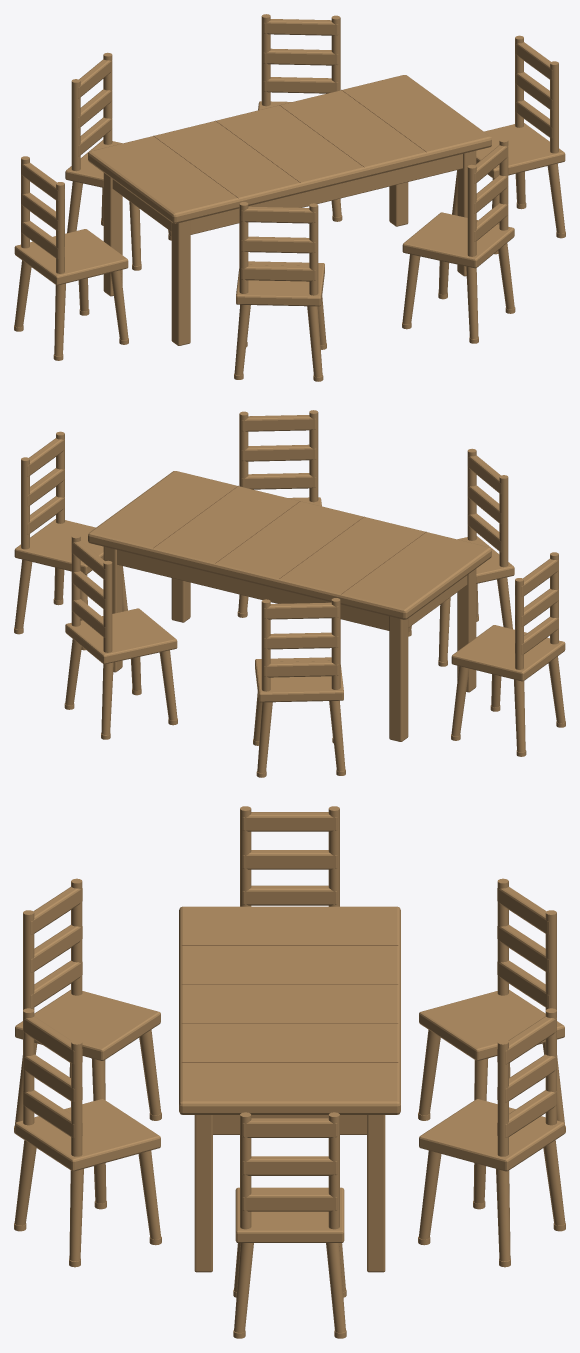
File: kitchen_set_farmhouse.glb
The picture shows the model from 3 angles, top to bottom: view 1: azimuth 30°, elevation 25°; view 2: azimuth 150°, elevation 25°; view 3: azimuth 270°, elevation 25°; orthographic projection. The views are drawn at different scales.
Visible parts, largest first — view 1: Farmhouse kitchen table tabletop, Farmhouse kitchen table long apron, Farmhouse ladder chair 2 seat, Farmhouse ladder chair 5 seat, Farmhouse ladder chair 6 seat, Farmhouse kitchen table leg, Farmhouse ladder chair 1 seat, Farmhouse kitchen table leg.001, Farmhouse ladder chair 4 ladder-back slat.002, Farmhouse ladder chair 4 ladder-back slat.001, Farmhouse ladder chair 1 ladder-back slat.001, Farmhouse ladder chair 1 ladder-back slat.002 (+41 smaller); view 2: Farmhouse kitchen table tabletop, Farmhouse kitchen table long apron.001, Farmhouse ladder chair 4 seat, Farmhouse ladder chair 5 seat, Farmhouse ladder chair 6 seat, Farmhouse kitchen table leg.001, Farmhouse ladder chair 3 seat, Farmhouse kitchen table leg, Farmhouse ladder chair 2 ladder-back slat.002, Farmhouse ladder chair 2 ladder-back slat.001, Farmhouse ladder chair 3 ladder-back slat.001, Farmhouse ladder chair 3 ladder-back slat.002 (+41 smaller); view 3: Farmhouse kitchen table tabletop, Farmhouse ladder chair 2 seat, Farmhouse ladder chair 4 seat, Farmhouse ladder chair 1 seat, Farmhouse ladder chair 3 seat, Farmhouse ladder chair 6 seat, Farmhouse kitchen table leg.002, Farmhouse kitchen table leg.003, Farmhouse ladder chair 5 ladder-back slat, Farmhouse ladder chair 5 ladder-back slat.001, Farmhouse ladder chair 5 ladder-back slat.002, Farmhouse ladder chair 6 ladder-back slat (+37 smaller).
Part boxes in pixels (x1,y1,x2,y2): Farmhouse kitchen table tabletop: [88, 75, 491, 223]; Farmhouse kitchen table long apron: [190, 154, 462, 234]; Farmhouse ladder chair 2 seat: [402, 212, 514, 268]; Farmhouse ladder chair 5 seat: [14, 229, 128, 285]; Farmhouse ladder chair 6 seat: [476, 123, 565, 178]; Farmhouse kitchen table leg: [171, 220, 190, 345]; Farmhouse ladder chair 1 seat: [236, 261, 324, 306]; Farmhouse kitchen table leg.001: [103, 173, 122, 296]; Farmhouse ladder chair 4 ladder-back slat.002: [263, 19, 338, 35]; Farmhouse ladder chair 4 ladder-back slat.001: [263, 48, 338, 65]; Farmhouse ladder chair 1 ladder-back slat.001: [241, 236, 315, 253]; Farmhouse ladder chair 1 ladder-back slat.002: [241, 206, 315, 223]; Farmhouse kitchen table tabletop: [88, 471, 491, 619]; Farmhouse kitchen table long apron.001: [117, 550, 389, 630]; Farmhouse ladder chair 4 seat: [65, 608, 177, 664]; Farmhouse ladder chair 5 seat: [451, 625, 565, 681]; Farmhouse ladder chair 6 seat: [14, 519, 103, 574]; Farmhouse kitchen table leg.001: [389, 616, 408, 741]; Farmhouse ladder chair 3 seat: [255, 657, 343, 702]; Farmhouse kitchen table leg: [457, 569, 476, 692]; Farmhouse ladder chair 2 ladder-back slat.002: [241, 415, 316, 431]; Farmhouse ladder chair 2 ladder-back slat.001: [241, 444, 316, 461]; Farmhouse ladder chair 3 ladder-back slat.001: [264, 632, 338, 649]; Farmhouse ladder chair 3 ladder-back slat.002: [264, 602, 338, 619]; Farmhouse kitchen table tabletop: [179, 906, 400, 1114]; Farmhouse ladder chair 2 seat: [15, 1099, 160, 1171]; Farmhouse ladder chair 4 seat: [419, 1099, 564, 1171]; Farmhouse ladder chair 1 seat: [15, 990, 160, 1060]; Farmhouse ladder chair 3 seat: [419, 990, 564, 1060]; Farmhouse ladder chair 6 seat: [235, 1187, 344, 1242]; Farmhouse kitchen table leg.002: [194, 1115, 212, 1272]; Farmhouse kitchen table leg.003: [367, 1115, 385, 1272]; Farmhouse ladder chair 5 ladder-back slat: [242, 885, 337, 905]; Farmhouse ladder chair 5 ladder-back slat.001: [242, 850, 337, 869]; Farmhouse ladder chair 5 ladder-back slat.002: [242, 812, 337, 831]; Farmhouse ladder chair 6 ladder-back slat: [242, 1192, 337, 1211].
Size of the model in its own units: 3.04 by 0.98 by 2.24.
